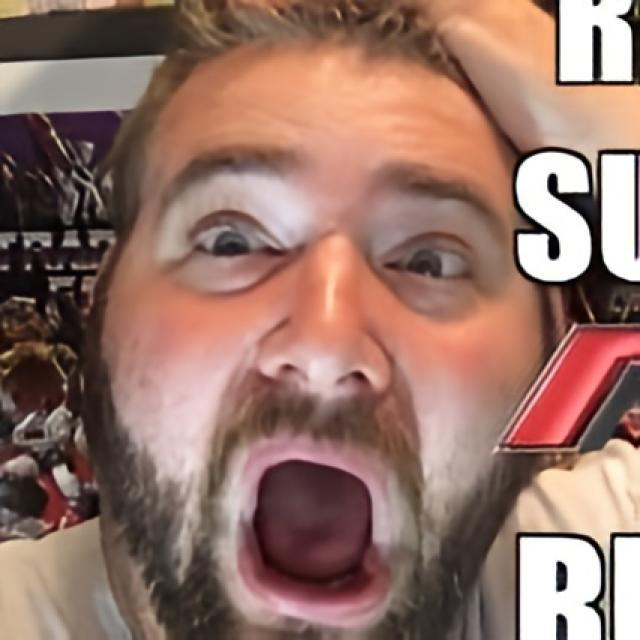fear: (94, 24, 549, 640)
